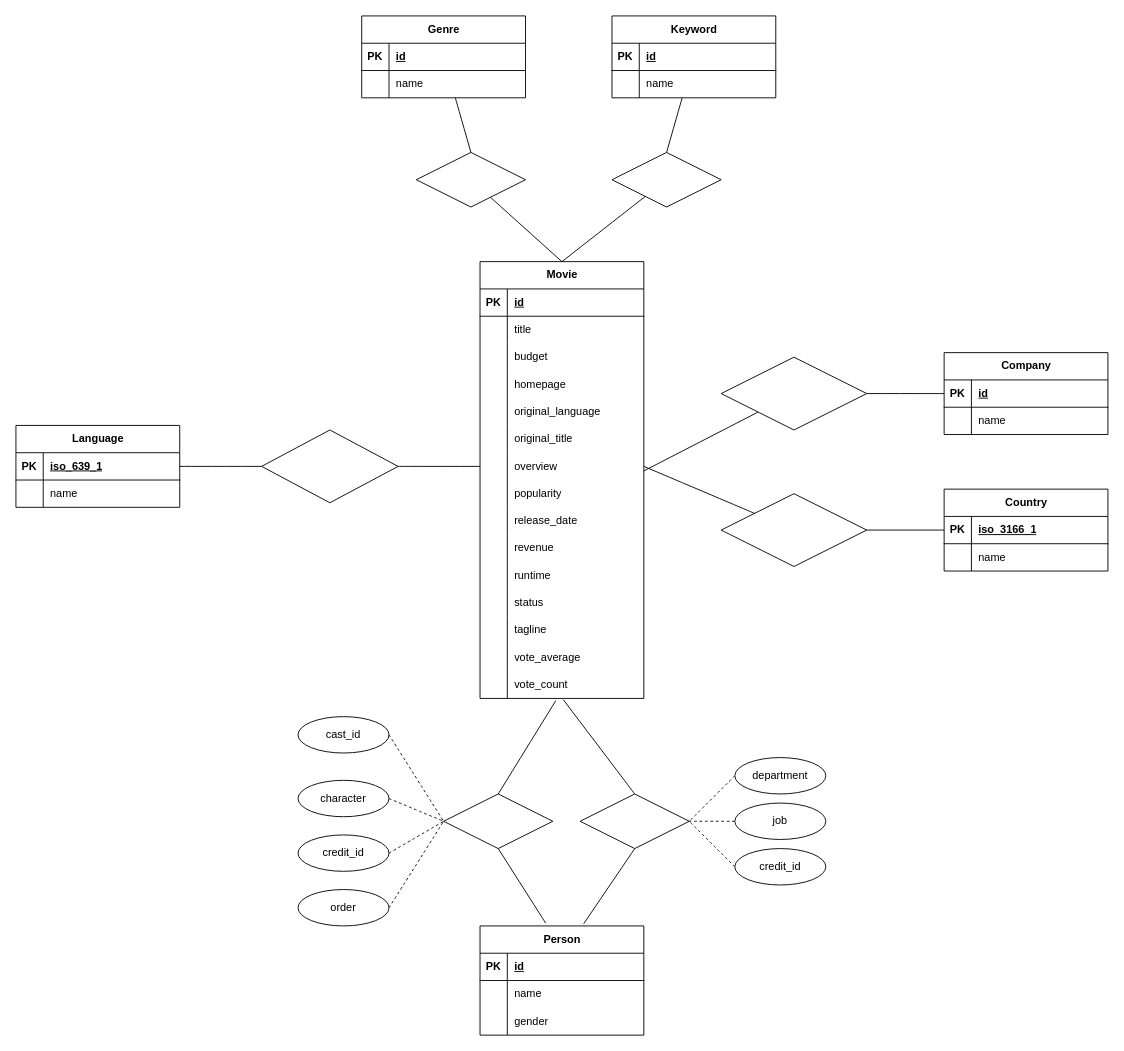
The diagram is 1124 pixels wide and 1051 high, and some of its shapes have lost their labels. Here are the shapes that lost their labels. From the top down, the centre of each, then its label:
At (470,179): "has_genre".
At (666,179): "has_keyword".
At (793,393): "production_company".
At (329,466): "spoken_languages".
At (793,529): "production_country".
At (498,821): "cast".
At (634,821): "crew".
